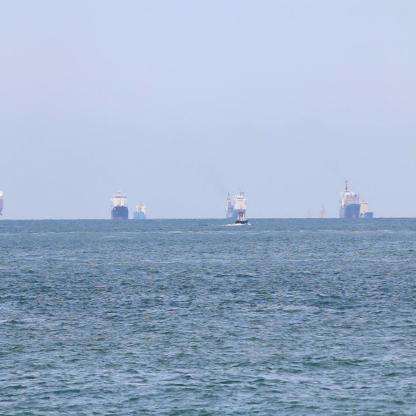Container Ship: (108, 184, 130, 224), (338, 178, 358, 221), (223, 187, 245, 223), (358, 196, 375, 223), (132, 200, 148, 225), (234, 207, 250, 227), (319, 202, 330, 221)
